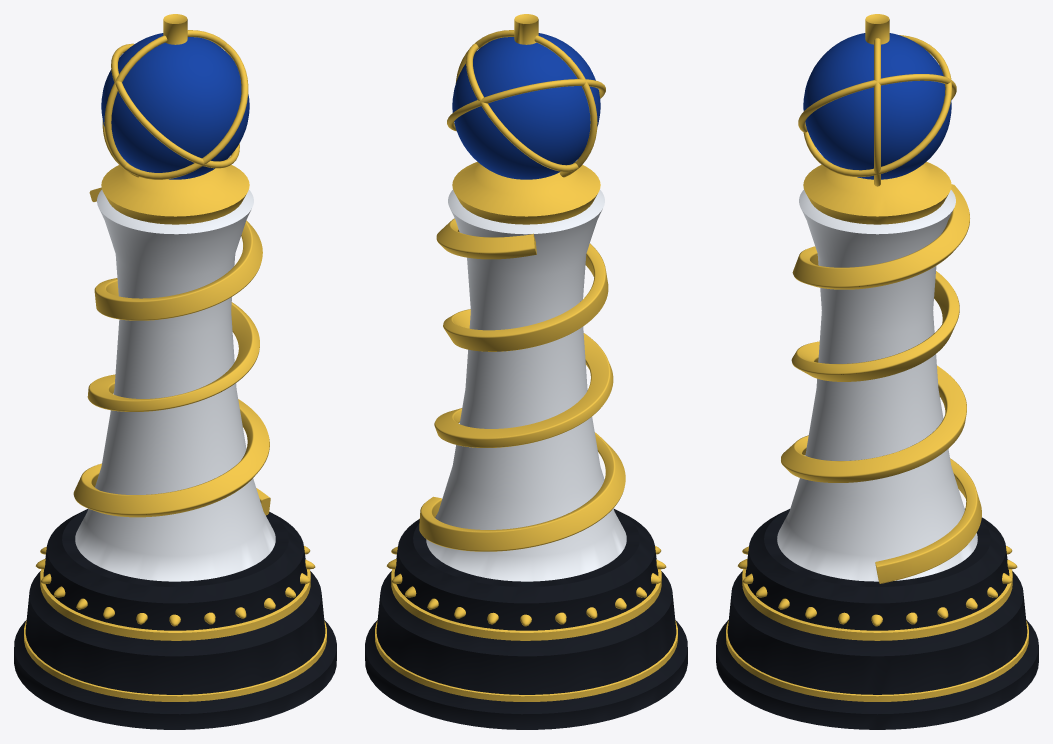
Rendered from fia_wdc_trophy.glb.
The picture shows the model from 3 angles, left to right: view 1: azimuth 30°, elevation 25°; view 2: azimuth 150°, elevation 25°; view 3: azimuth 270°, elevation 25°; orthographic projection.
Parts seen in each view (by area): view 1: WDC_Silver_Tower, WDC_Base_Plinth, WDC_Gold_Helical_Spiral, WDC_Cobalt_Globe, WDC_Crown_Collar, WDC_Base_Trim_Upper, WDC_Base_Trim_Lower, WDC_Globe_Ring_2, WDC_Globe_Ring_1, WDC_Globe_Ring_0, WDC_Finial_Tip; view 2: WDC_Base_Plinth, WDC_Silver_Tower, WDC_Gold_Helical_Spiral, WDC_Cobalt_Globe, WDC_Crown_Collar, WDC_Base_Trim_Upper, WDC_Base_Trim_Lower, WDC_Globe_Ring_0, WDC_Globe_Ring_2, WDC_Globe_Ring_1, WDC_Finial_Tip; view 3: WDC_Base_Plinth, WDC_Silver_Tower, WDC_Gold_Helical_Spiral, WDC_Cobalt_Globe, WDC_Crown_Collar, WDC_Base_Trim_Upper, WDC_Base_Trim_Lower, WDC_Globe_Ring_1, WDC_Globe_Ring_2, WDC_Globe_Ring_0, WDC_Finial_Tip.
Boxes of the visible parts, <box> form: WDC_Silver_Tower: <box>75,190,275,581</box>; WDC_Base_Plinth: <box>14,509,336,729</box>; WDC_Gold_Helical_Spiral: <box>73,187,270,517</box>; WDC_Cobalt_Globe: <box>101,33,249,179</box>; WDC_Crown_Collar: <box>101,163,249,224</box>; WDC_Base_Trim_Upper: <box>40,569,310,640</box>; WDC_Base_Trim_Lower: <box>24,620,326,701</box>; WDC_Globe_Ring_2: <box>102,43,248,179</box>; WDC_Globe_Ring_1: <box>111,43,239,168</box>; WDC_Globe_Ring_0: <box>104,30,231,177</box>; WDC_Finial_Tip: <box>163,14,187,44</box>; WDC_Base_Plinth: <box>365,509,687,729</box>; WDC_Silver_Tower: <box>426,190,626,581</box>; WDC_Gold_Helical_Spiral: <box>419,218,625,551</box>; WDC_Cobalt_Globe: <box>452,33,600,179</box>; WDC_Crown_Collar: <box>452,162,600,224</box>; WDC_Base_Trim_Upper: <box>391,569,661,640</box>; WDC_Base_Trim_Lower: <box>375,620,677,701</box>; WDC_Globe_Ring_0: <box>455,30,597,177</box>; WDC_Globe_Ring_2: <box>466,43,581,171</box>; WDC_Globe_Ring_1: <box>447,79,605,131</box>; WDC_Finial_Tip: <box>514,14,538,44</box>; WDC_Base_Plinth: <box>716,509,1038,729</box>; WDC_Silver_Tower: <box>777,190,977,581</box>; WDC_Gold_Helical_Spiral: <box>781,184,981,583</box>; WDC_Cobalt_Globe: <box>803,33,951,179</box>; WDC_Crown_Collar: <box>803,162,951,224</box>; WDC_Base_Trim_Upper: <box>742,569,1012,640</box>; WDC_Base_Trim_Lower: <box>726,620,1028,701</box>; WDC_Globe_Ring_1: <box>803,35,952,177</box>; WDC_Globe_Ring_2: <box>798,74,956,132</box>; WDC_Globe_Ring_0: <box>874,38,880,186</box>; WDC_Finial_Tip: <box>865,14,889,44</box>.
Size of the model in its own units: 0.296 by 0.65 by 0.296.
